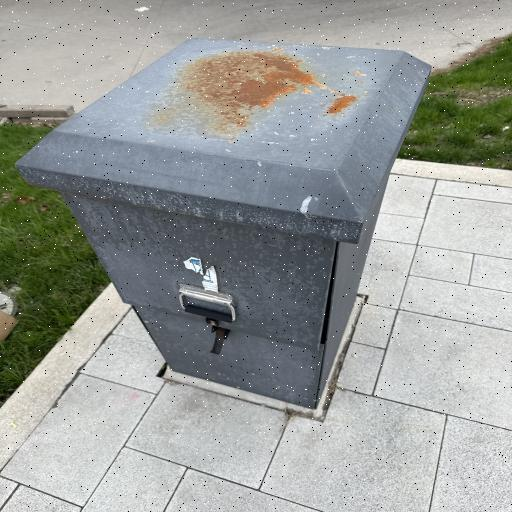Electrical Box: (13, 37, 431, 409)
